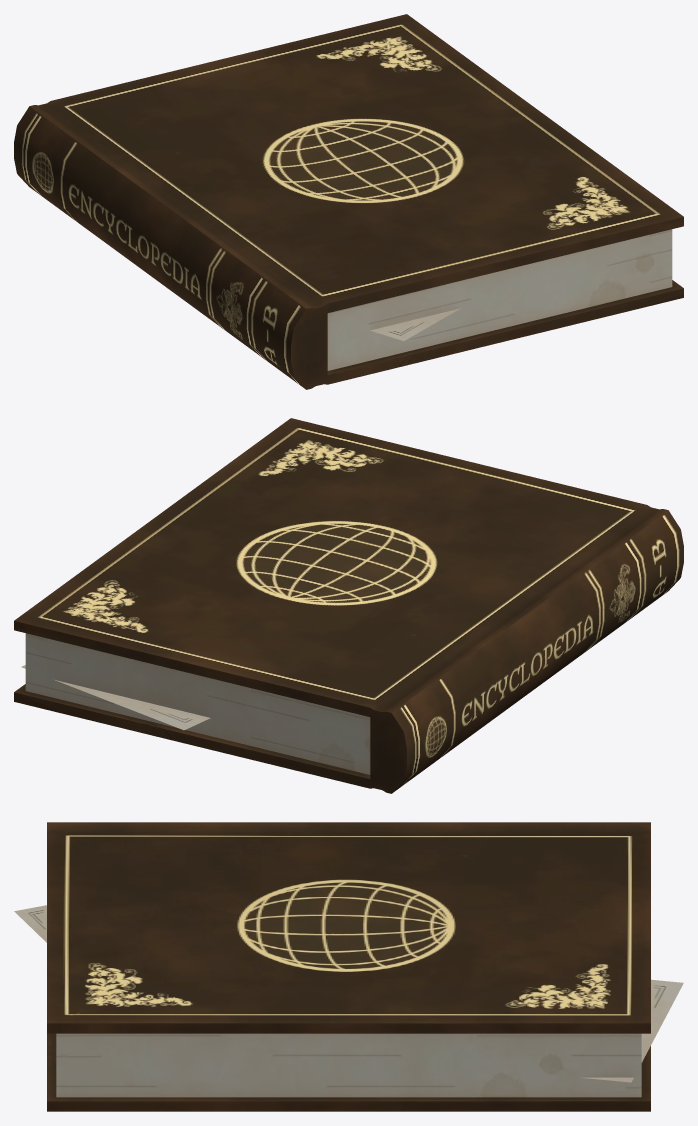
File: livro.glb
The picture shows the model from 3 angles, top to bottom: view 1: azimuth 30°, elevation 25°; view 2: azimuth 150°, elevation 25°; view 3: azimuth 270°, elevation 25°; orthographic projection. The views are drawn at different scales.
Parts seen in each view (by area): view 1: Box001; view 2: Box001; view 3: Box001.
Part boxes in pixels (bbox=[...]): Box001: bbox=[14, 14, 683, 389]; Box001: bbox=[14, 418, 683, 793]; Box001: bbox=[14, 822, 683, 1111].
Bounding box in the file's own units: 1.48 × 0.2909 × 2.
1 material, 1 textured.
